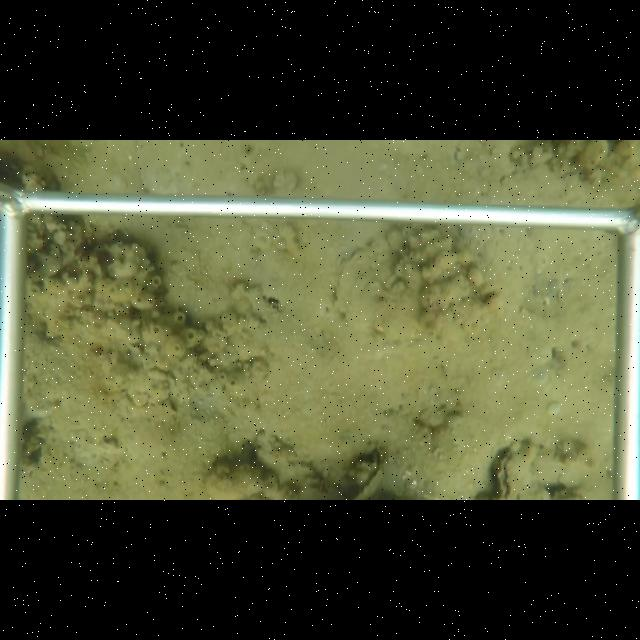Oyster-Open: (492, 440, 542, 499)
